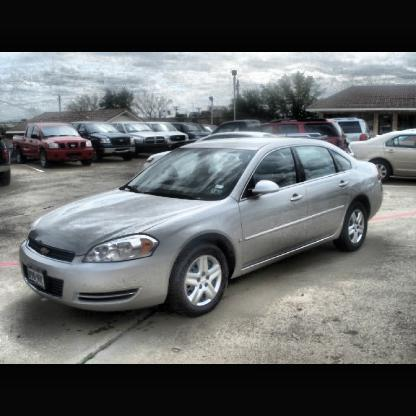Chevrolet Impala Sedan 2007: (22, 129, 382, 318)
